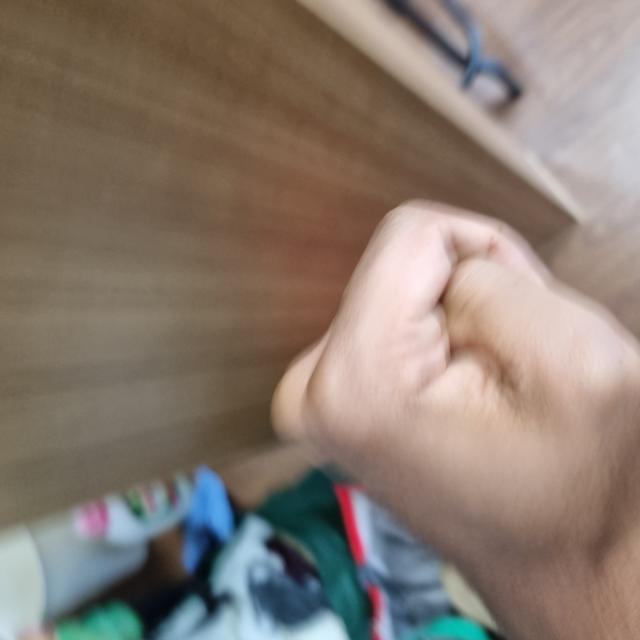Rock: (40, 285, 436, 639)
